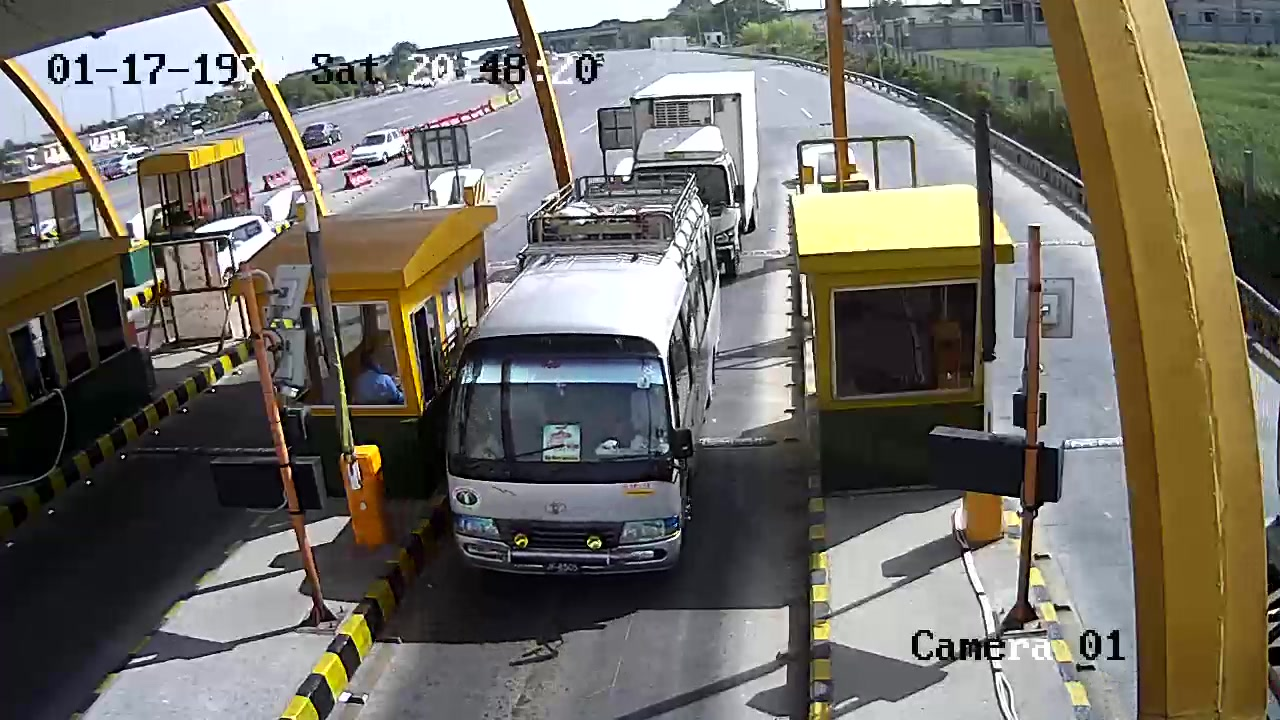F3: (443, 167, 723, 589)
